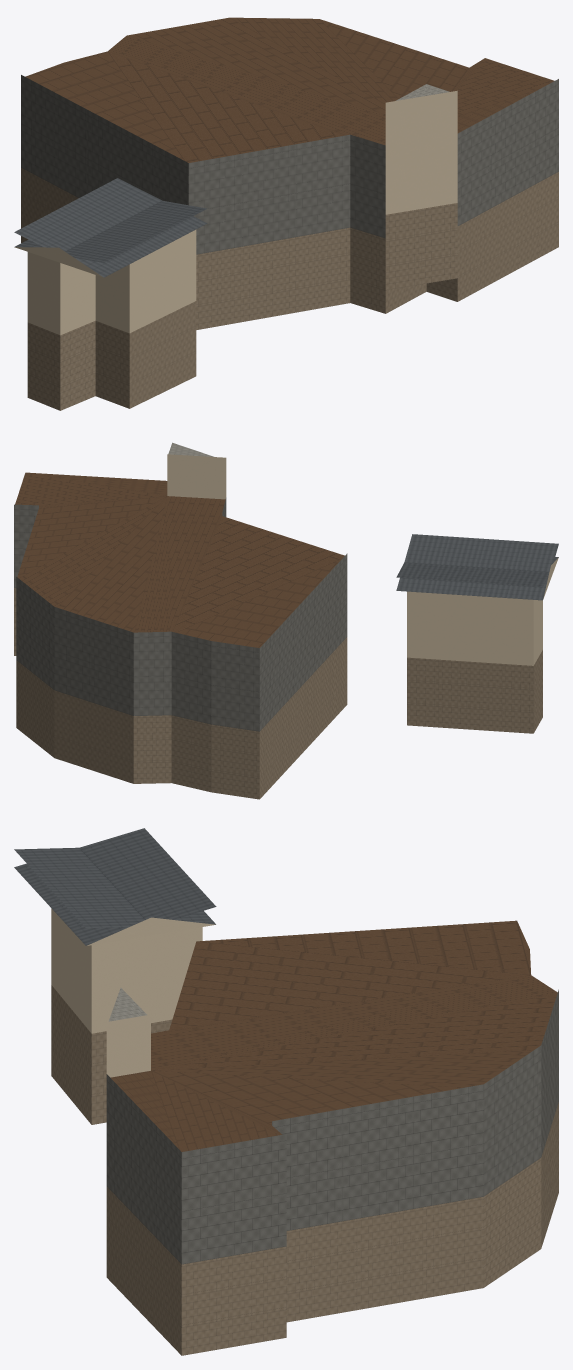
Rendered from bld_c33_-40_441.gltf.
The picture shows the model from 3 angles, top to bottom: view 1: azimuth 30°, elevation 25°; view 2: azimuth 150°, elevation 25°; view 3: azimuth 270°, elevation 25°; orthographic projection. The views are drawn at different scales.
Parts seen in each view (by area): view 1: bld_c33_-40_441; view 2: bld_c33_-40_441; view 3: bld_c33_-40_441.
Boxes of the visible parts, x1=… form: bld_c33_-40_441: x1=14, y1=17, x2=558, y2=410; bld_c33_-40_441: x1=14, y1=442, x2=558, y2=799; bld_c33_-40_441: x1=14, y1=828, x2=558, y2=1355.
Size of the model in its own units: 39.62 by 14.58 by 27.59.
8 materials, 8 textured.
